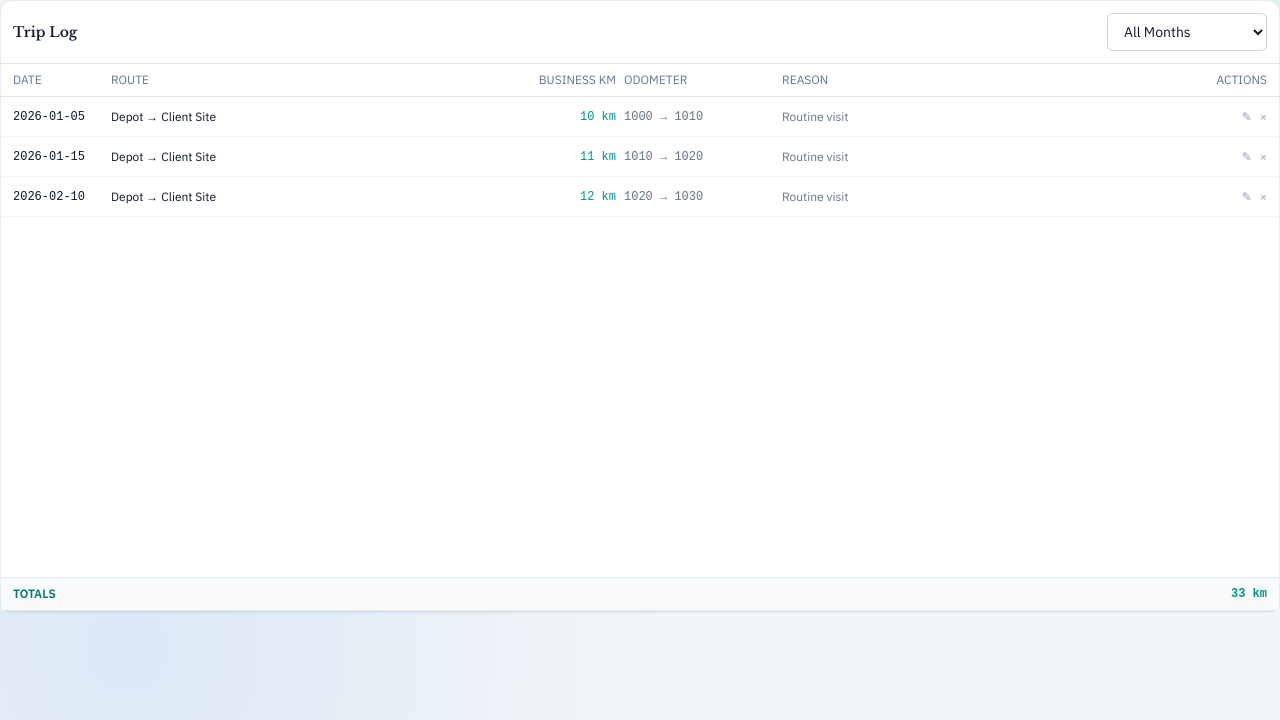
it: TripTable month filter › filters rendered trips by month and restores them via All Months
The width and height of the screenshot is (1280, 720).
Expected: the text "2026-01-05" is shown, [13,110,85,124]
Expected: the text "2026-01-15" is shown, [13,150,85,164]
Step 1. Select "Jan" in the dropdown named "filter by month" → [1187, 32], box [1107,13,1267,51]
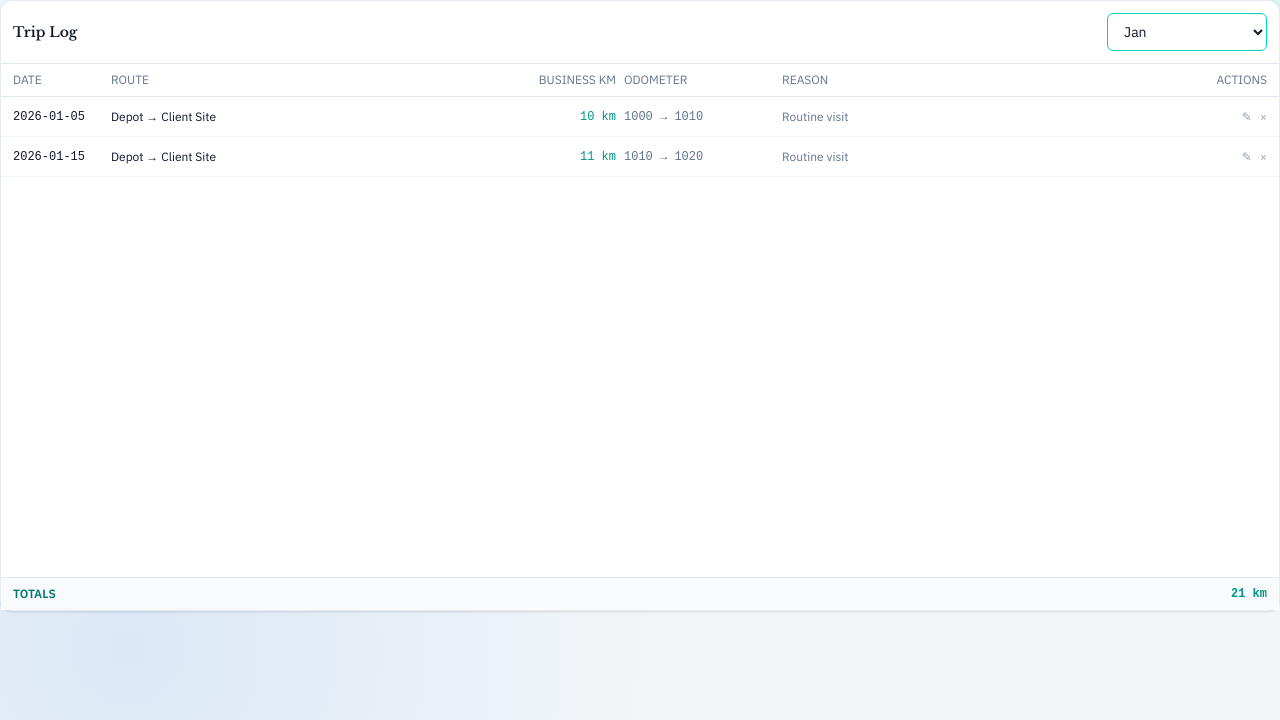
Expected: the text "2026-01-05" is shown, [13,110,85,124]
Result: the text "2026-02-10" is gone
Step 2. Select "All Months" in the dropdown named "filter by month" → [1187, 32], box [1107,13,1267,51]
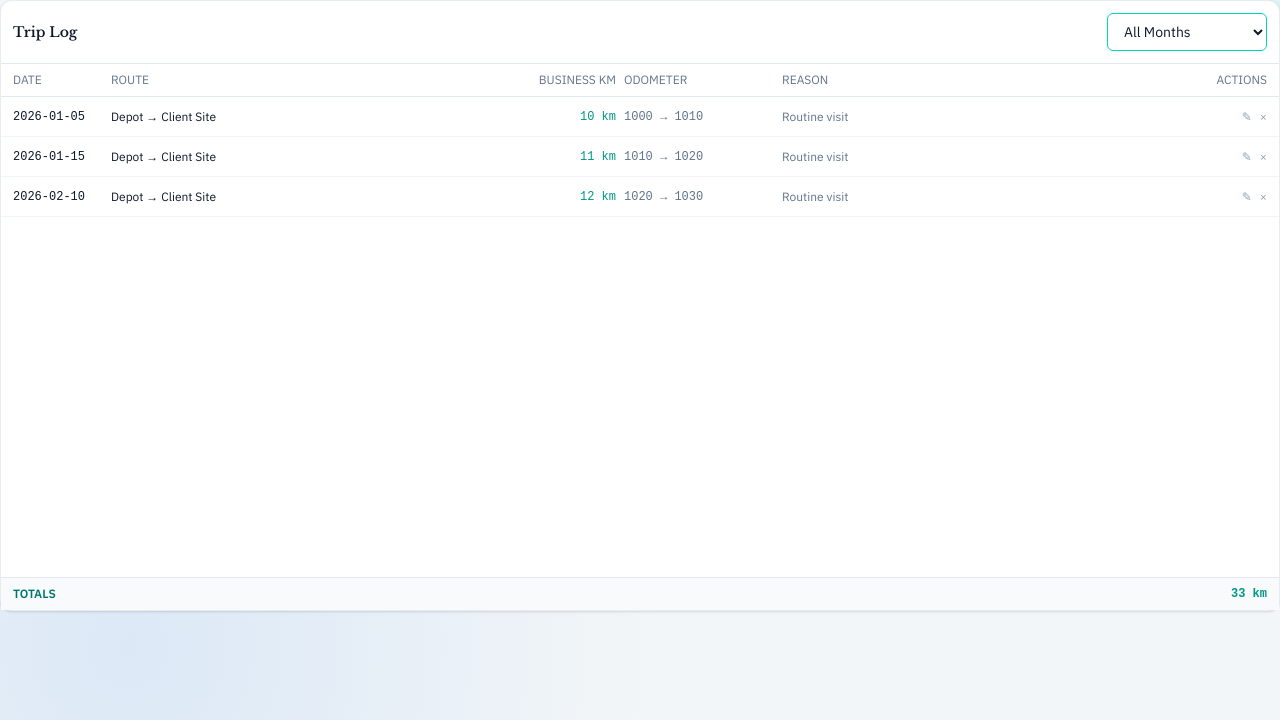
Expected: the text "2026-01-05" is shown, [13,110,85,124]
Result: the text "2026-02-10" is shown at [13,190,85,204]
